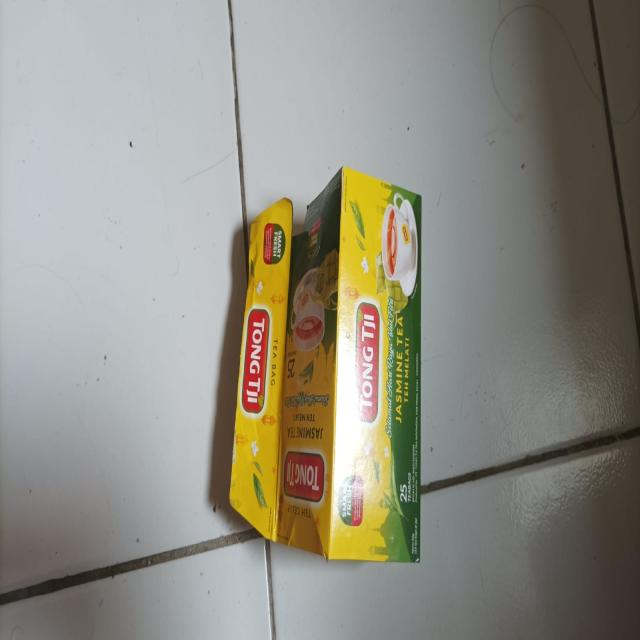Organik: (230, 166, 421, 565)
